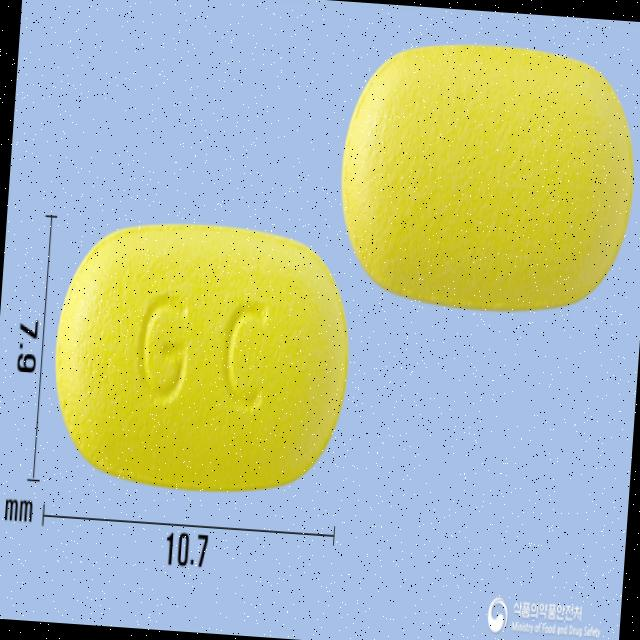Clarimicin: (41, 202, 359, 504), (331, 30, 640, 323)
